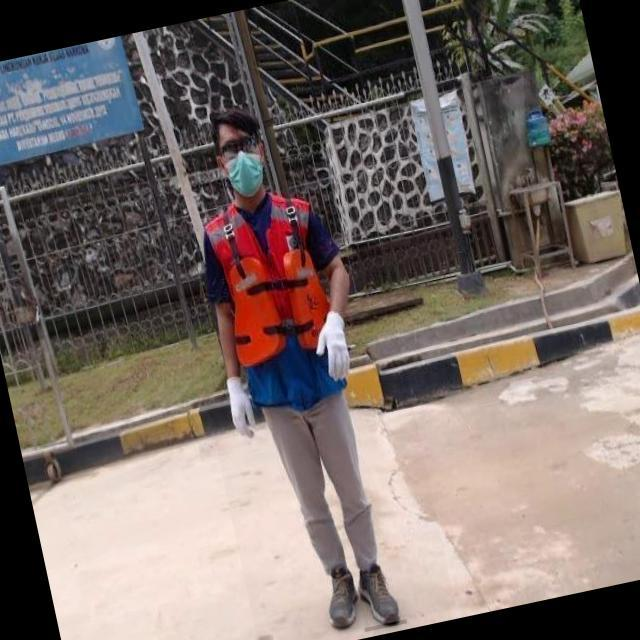Human: (147, 82, 455, 640)
Safety Boot: (350, 555, 407, 632), (316, 561, 367, 635)
Safety Vest: (199, 181, 354, 416)
